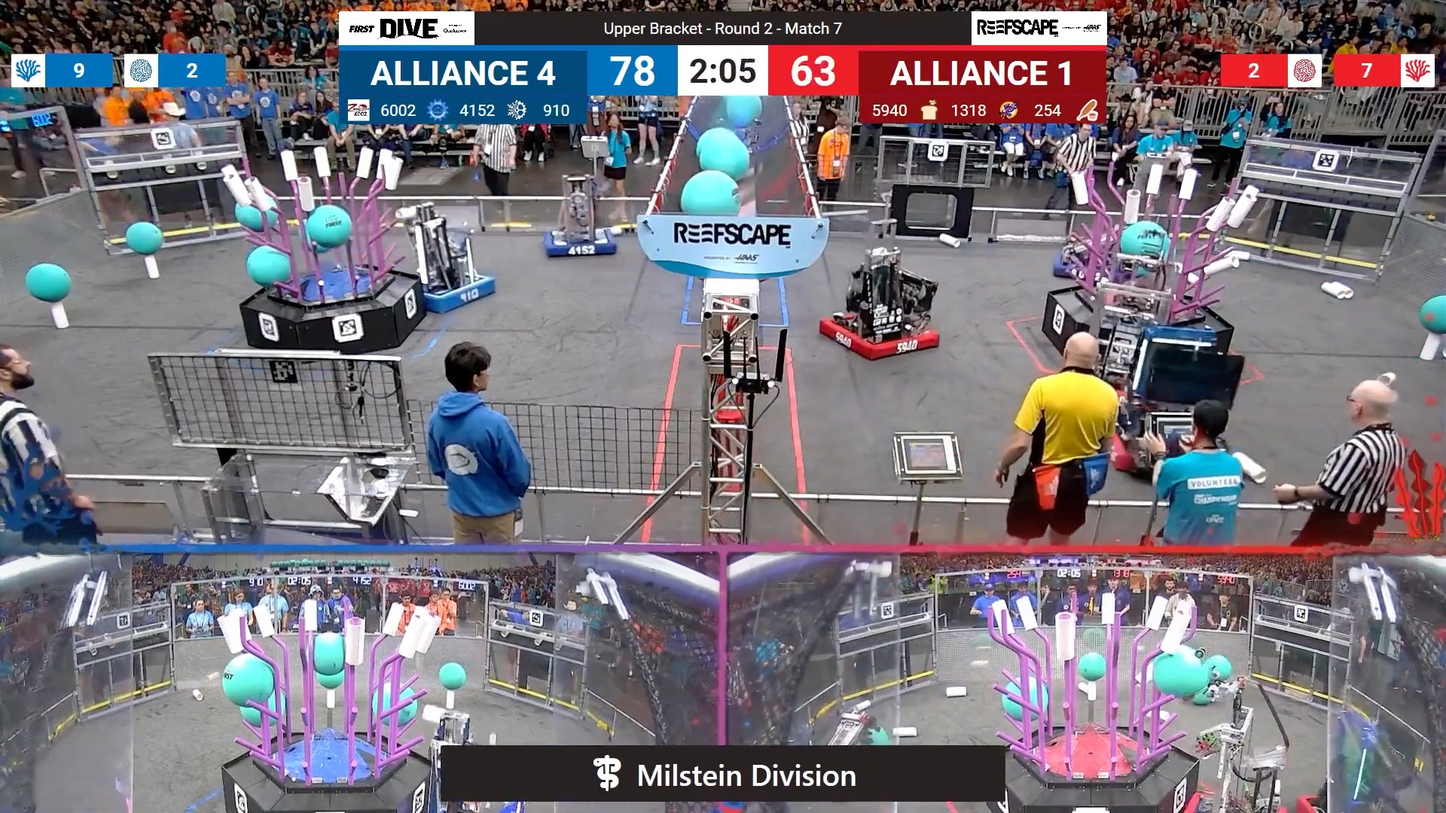bumpers: (812, 311, 948, 367), (404, 268, 504, 314), (536, 226, 627, 264), (1045, 251, 1136, 285), (1187, 789, 1306, 813)
